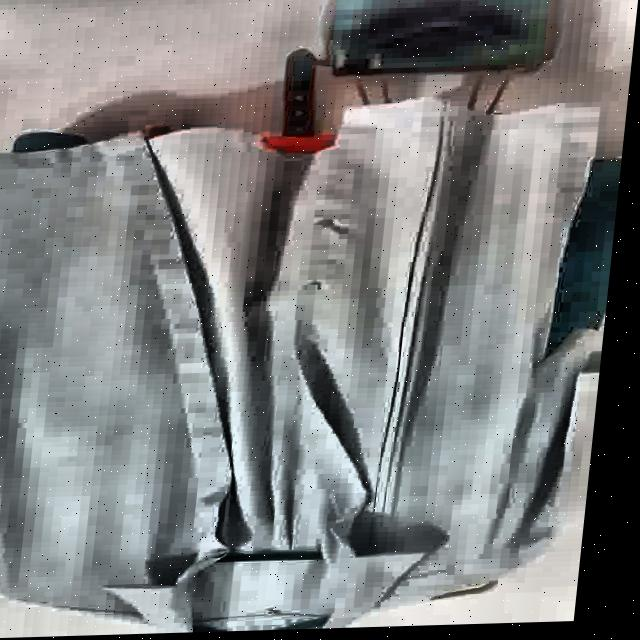clothes: (0, 84, 625, 638)
